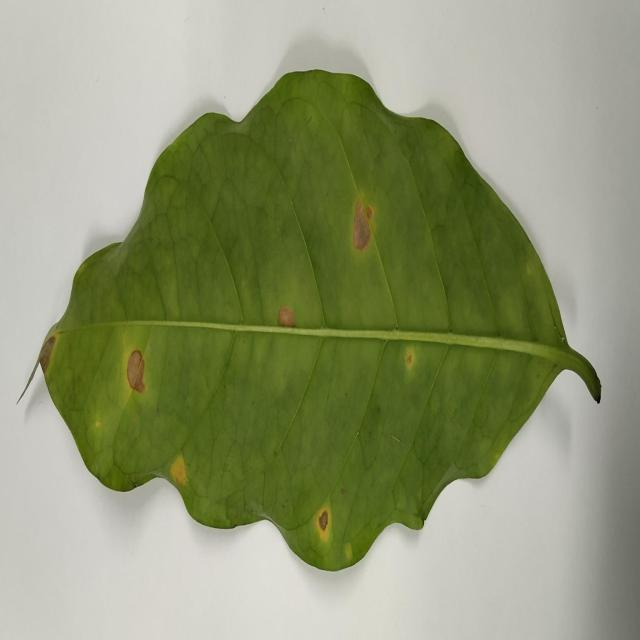Enfermedad-Mancha-de-hierro: (37, 69, 602, 574)
